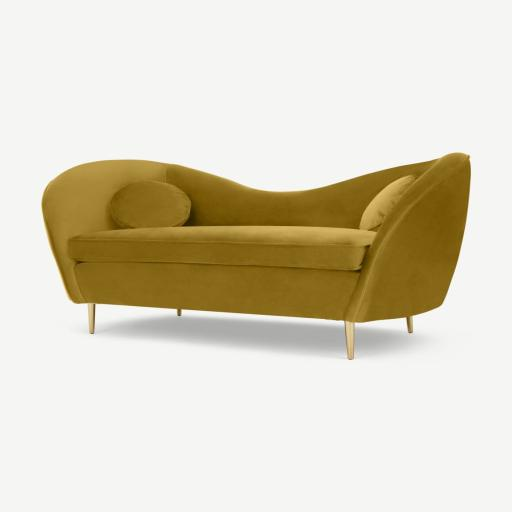back_cushion: (167, 164, 377, 227)
base: (75, 262, 358, 320)
left_arm: (343, 153, 470, 322)
legs: (345, 321, 354, 359), (88, 303, 96, 334), (407, 317, 413, 333), (177, 309, 181, 316)
one-seater: (42, 153, 470, 359)
right_arm: (42, 160, 168, 303)
seat_cushion: (68, 226, 375, 271)
